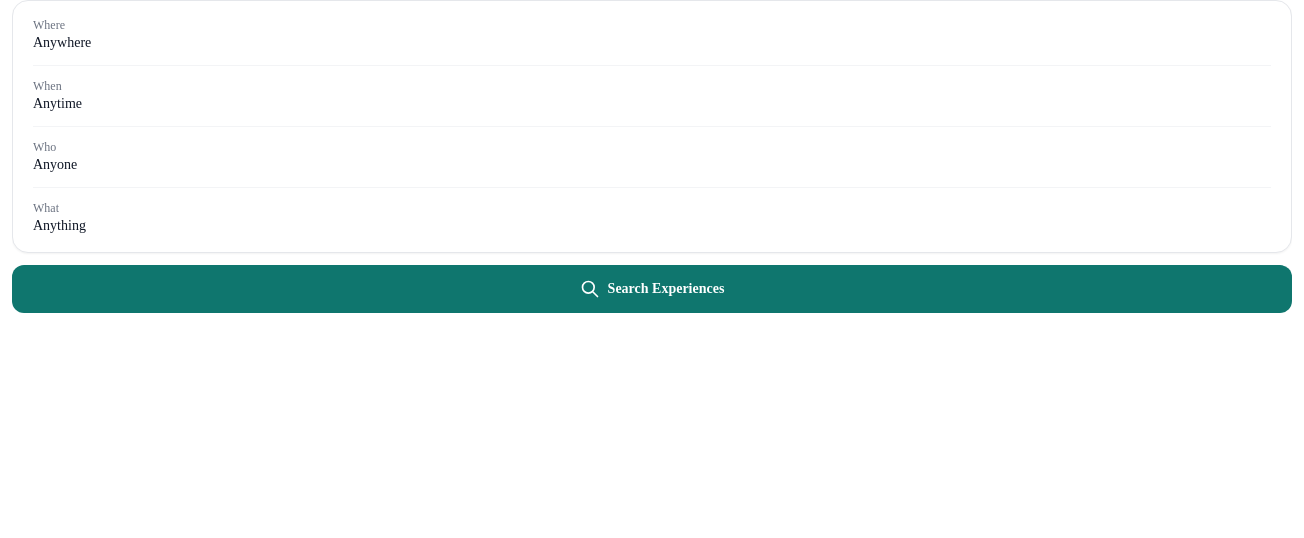
it: ProductDiscoverySearch › dropdown visibility › shows Who dropdown with traveler type suggestions
Click the button "Who Anyone".
click(55, 164)  # box [17, 127, 1287, 187]
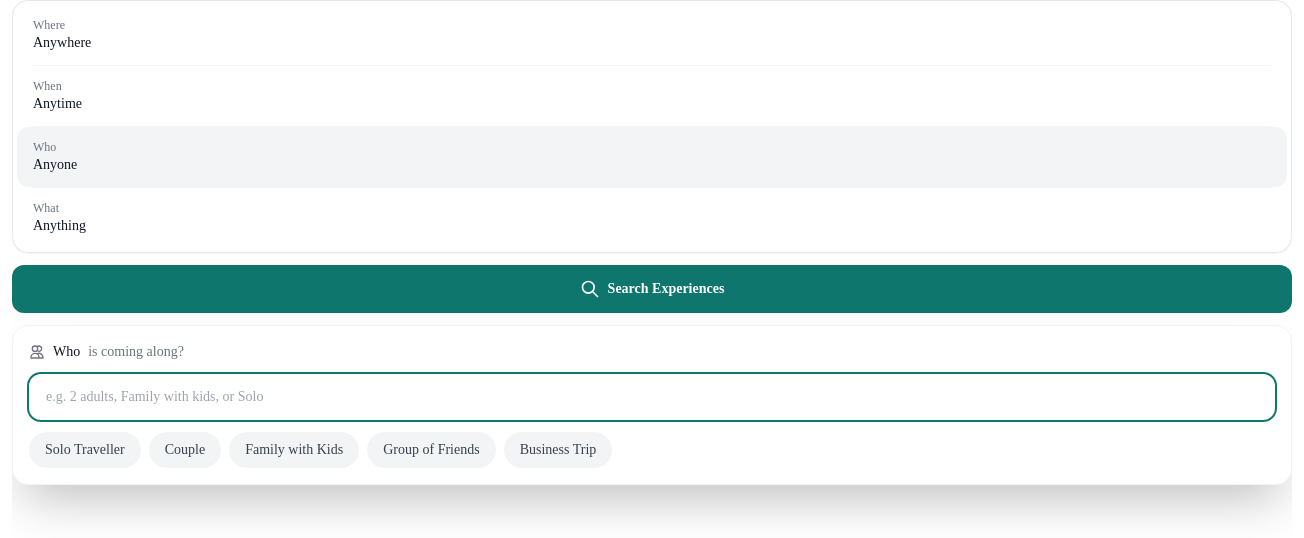
Check: the button "Solo Traveller" is shown, box [29, 432, 141, 468]
Check: the button "Couple" is shown, box [149, 432, 221, 468]
Check: the button "Family with Kids" is shown, box [229, 432, 359, 468]
